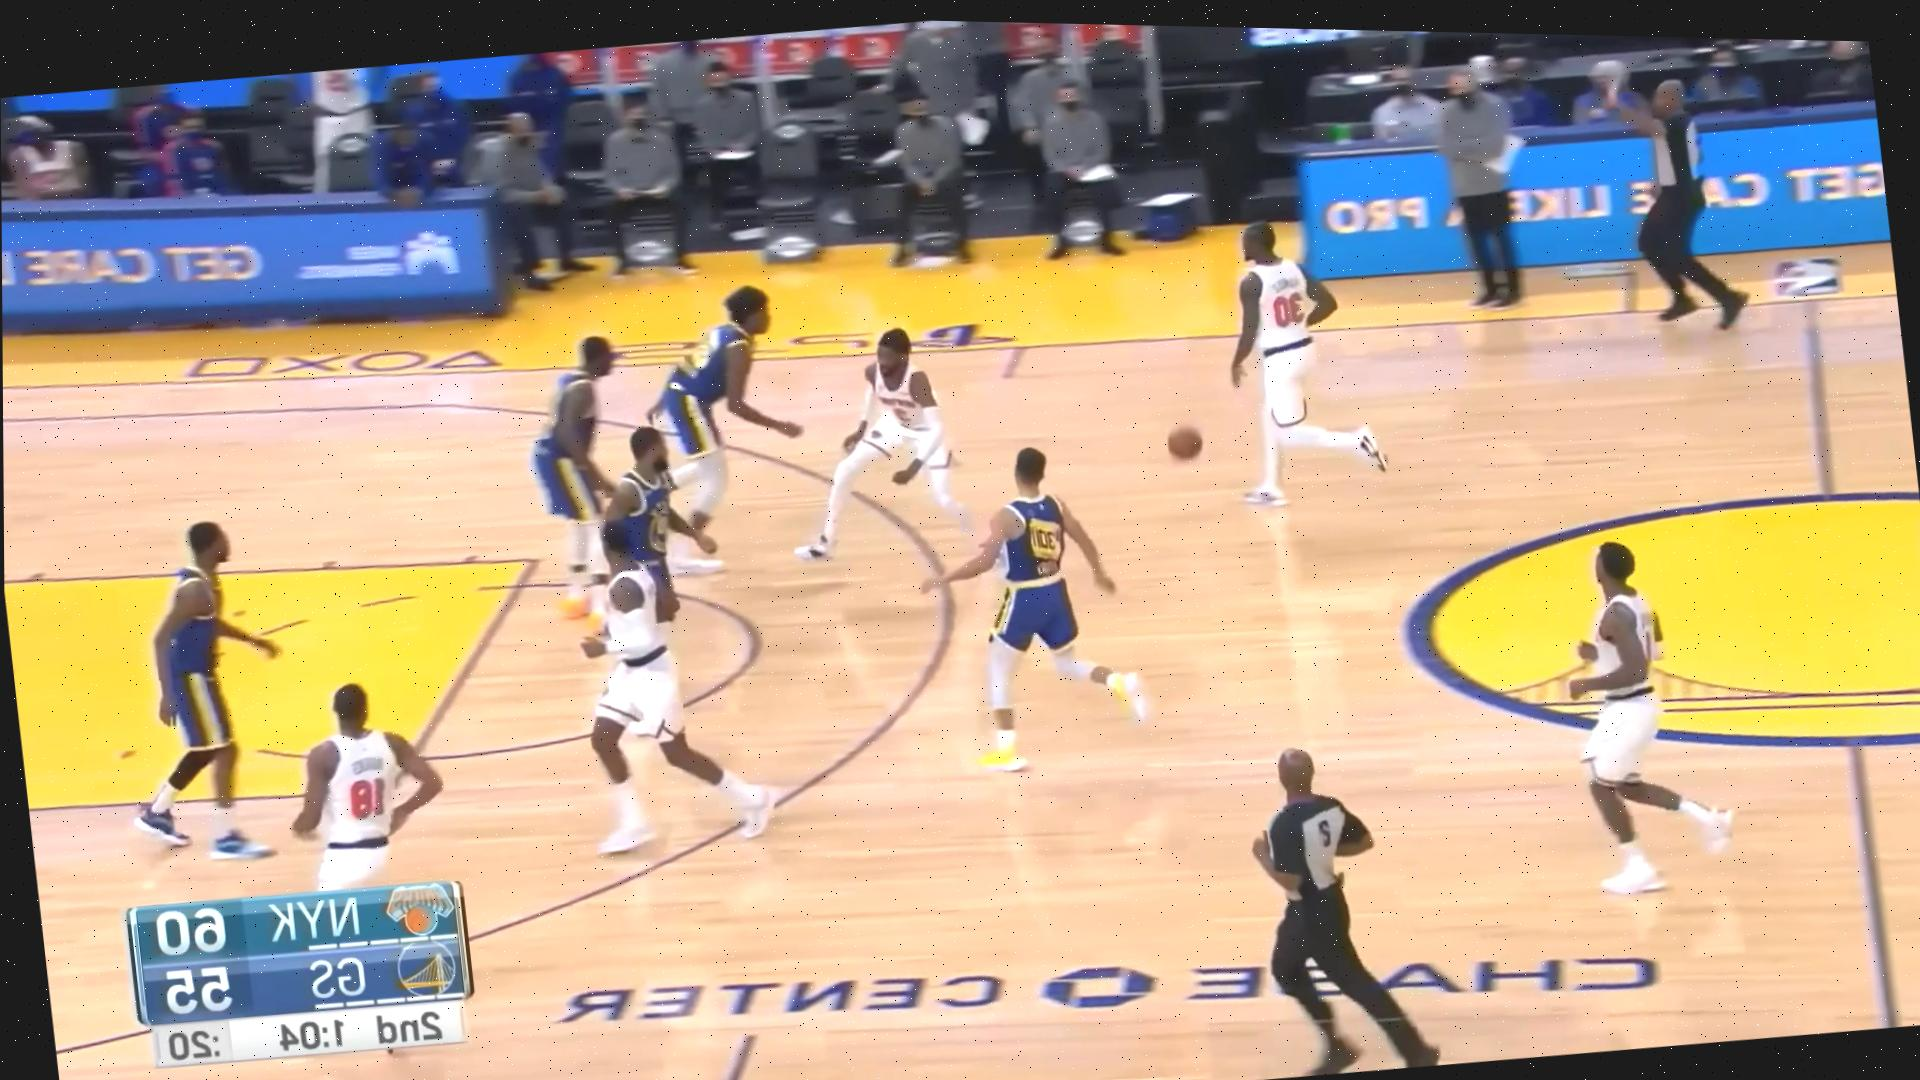no_foul: (1101, 196, 1436, 542)
